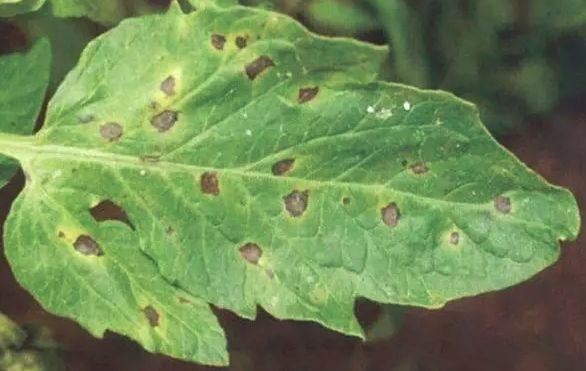Anthrax: (4, 1, 581, 368)
